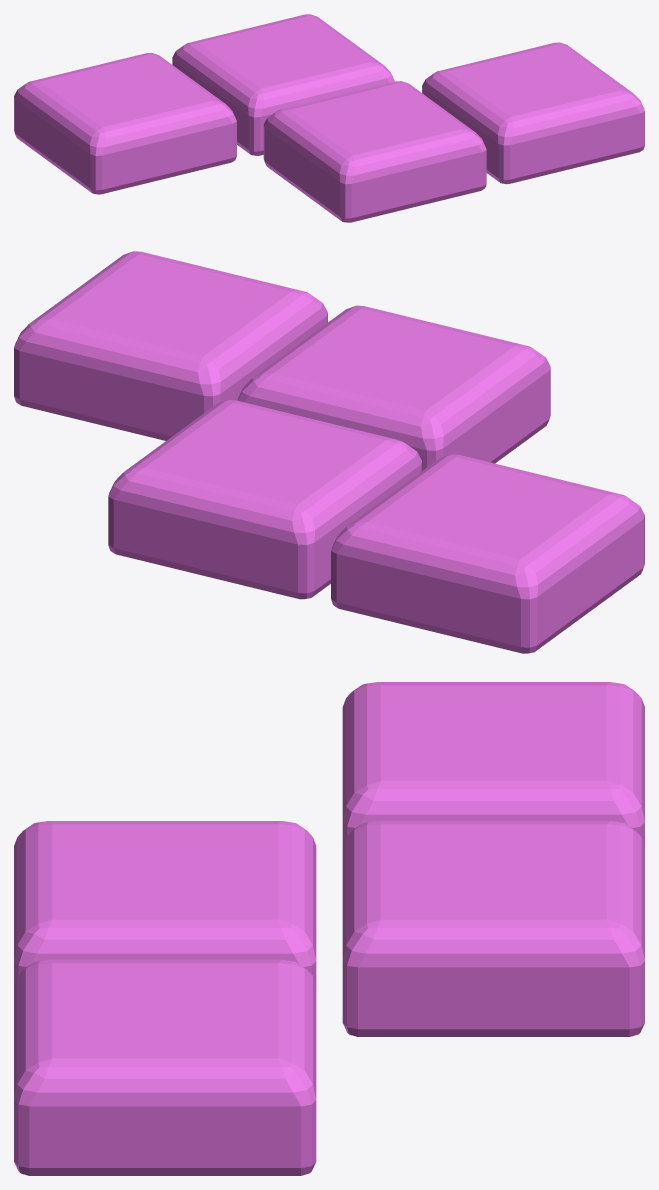
File: KO_Tetris_4.fbx
The picture shows the model from 3 angles, top to bottom: view 1: azimuth 30°, elevation 25°; view 2: azimuth 150°, elevation 25°; view 3: azimuth 270°, elevation 25°; orthographic projection. The views are drawn at different scales.
Parts seen in each view (by area): view 1: Tetris_Z; view 2: Tetris_Z; view 3: Tetris_Z.
Boxes of the visible parts, x1=… form: Tetris_Z: x1=14, y1=14, x2=644, y2=222; Tetris_Z: x1=14, y1=251, x2=644, y2=653; Tetris_Z: x1=14, y1=682, x2=644, y2=1175.
Bounding box in the file's own units: 292 × 36 × 192.
